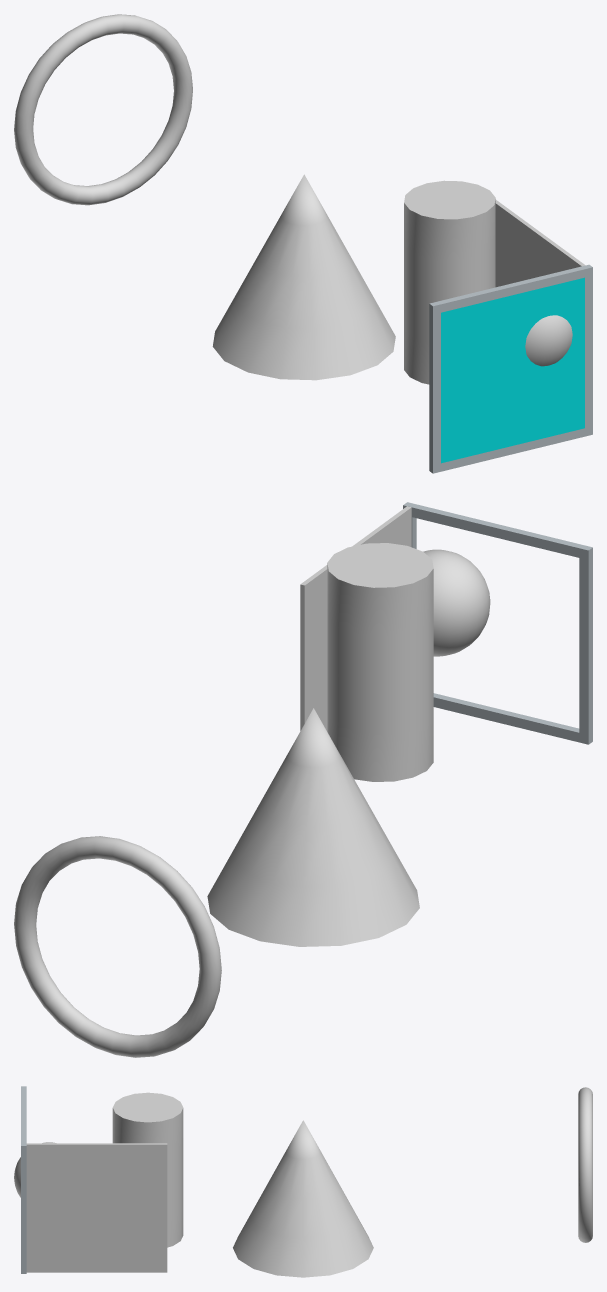
Rendered from RVA3D_diorama_calibration_001.glb.
The picture shows the model from 3 angles, top to bottom: view 1: azimuth 30°, elevation 25°; view 2: azimuth 150°, elevation 25°; view 3: azimuth 270°, elevation 25°; orthographic projection. The views are drawn at different scales.
Visible parts, largest first — view 1: CAL_IMPOSSIBLE, PORTAL_APERTURE, CAL_CUBE_BACK, CAL_EXTREME, CAL_EDGE, FRAME_TOP, CAL_NEAR, FRAME_LEFT, FRAME_BOTTOM, FRAME_RIGHT; view 2: CAL_IMPOSSIBLE, CAL_CUBE_BACK, CAL_EXTREME, CAL_EDGE, CAL_NEAR, FRAME_TOP, FRAME_LEFT, FRAME_BOTTOM; view 3: CAL_EDGE, CAL_IMPOSSIBLE, CAL_CUBE_BACK, CAL_EXTREME, FRAME_RIGHT, FRAME_TOP.
Part boxes in pixels (x1,y1,x2,y2): CAL_IMPOSSIBLE: (212, 174, 395, 380); PORTAL_APERTURE: (441, 277, 584, 463); CAL_CUBE_BACK: (404, 180, 495, 384); CAL_EXTREME: (14, 14, 192, 205); CAL_EDGE: (495, 200, 585, 287); FRAME_TOP: (429, 264, 592, 314); CAL_NEAR: (525, 315, 572, 366); FRAME_LEFT: (429, 312, 440, 465); FRAME_BOTTOM: (429, 426, 592, 473); FRAME_RIGHT: (585, 275, 592, 427); CAL_IMPOSSIBLE: (207, 708, 419, 946); CAL_CUBE_BACK: (327, 543, 433, 781); CAL_EXTREME: (14, 836, 221, 1057); CAL_EDGE: (300, 506, 411, 731); CAL_NEAR: (423, 549, 490, 656); FRAME_TOP: (403, 502, 592, 560); FRAME_LEFT: (579, 557, 592, 734); FRAME_BOTTOM: (433, 693, 592, 744); CAL_EDGE: (26, 1143, 167, 1272); CAL_IMPOSSIBLE: (233, 1120, 373, 1277); CAL_CUBE_BACK: (112, 1092, 183, 1247); CAL_EXTREME: (578, 1087, 592, 1242); FRAME_RIGHT: (21, 1152, 26, 1267); FRAME_TOP: (21, 1086, 26, 1152).
Size of the model in its own units: 2.6 by 2.45 by 8.2.
